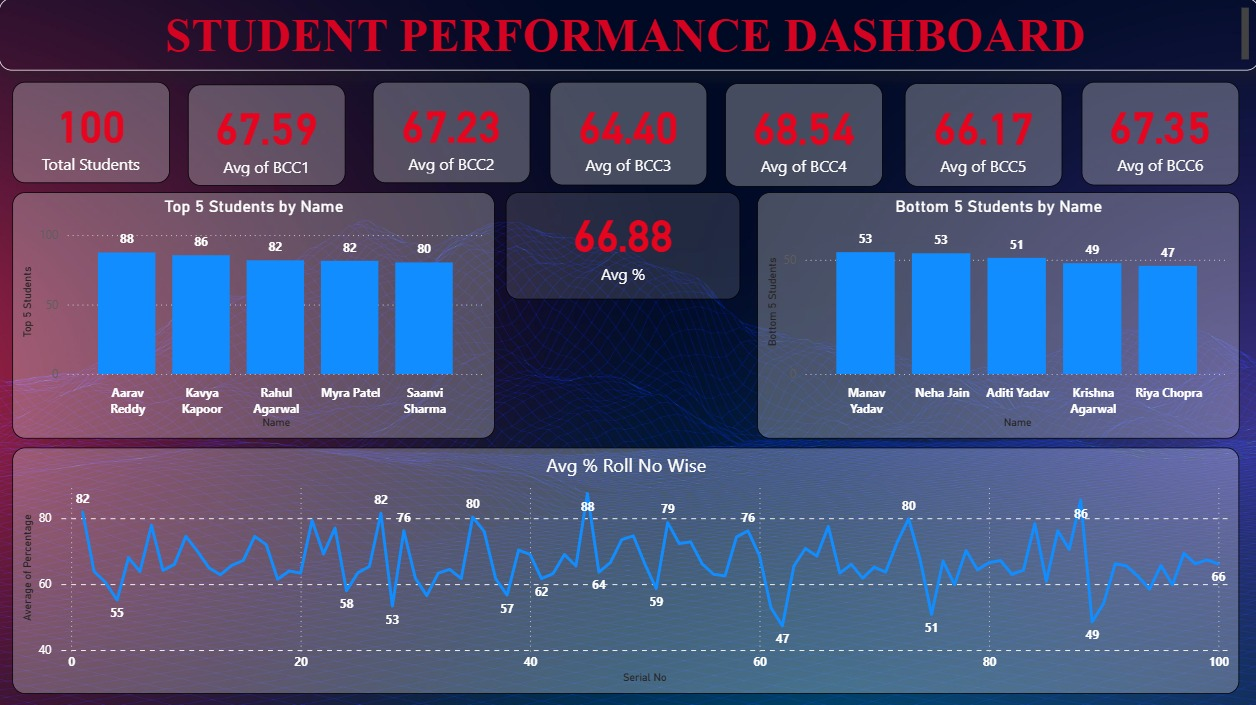

What the dashboard file says about the page in this screenshot:
{"tool":"powerbi","page":{"name":"Page 1","canvas":[1280,720],"ordinal":0},"visuals":[{"type":"textbox","box":[0,0,1280.2,74],"z":0},{"type":"card","fields":{"Values":["student_marks_dataset.Serial No"]},"box":[13.3,85,160,103.3],"z":1000},{"type":"card","fields":{"Values":["student_marks_dataset.BCC1"]},"box":[191.7,88.3,160,103.3],"z":2000},{"type":"card","fields":{"Values":["student_marks_dataset.BCC2"]},"box":[380,85,160,103.3],"z":3000},{"type":"card","fields":{"Values":["student_marks_dataset.BCC3"]},"box":[560,85,160,105],"z":4000},{"type":"card","fields":{"Values":["student_marks_dataset.BCC4"]},"box":[738.3,86.7,160,105],"z":5000},{"type":"card","fields":{"Values":["student_marks_dataset.BCC5"]},"box":[920,86.7,160,105],"z":6000},{"type":"card","fields":{"Values":["student_marks_dataset.BCC6"]},"box":[1100,85,160,105],"z":7000},{"type":"columnChart","fields":{"Category":["student_marks_dataset.Name"],"Y":["student_marks_dataset.Percentage"]},"box":[13.3,196.7,490,250],"z":8000},{"type":"columnChart","fields":{"Category":["student_marks_dataset.Name"],"Y":["student_marks_dataset.Percentage"]},"box":[770,196.7,490,250],"z":9000},{"type":"lineChart","title":"Avg % Roll No Wise","fields":{"Category":["student_marks_dataset.Serial No"],"Y":["student_marks_dataset.Percentage"]},"box":[13.3,456.7,1246.7,250],"z":10000},{"type":"card","fields":{"Values":["student_marks_dataset.Percentage"]},"box":[514.6,197.8,238,109.4],"z":10001}]}

Visuals, with their boxes in screenshot pixels (x1, y1, x2, y2), scaled from the page's 1280x720 canvas onto the 1256x705 screenshot:
textbox: [x1=0, y1=0, x2=1255, y2=72]
card - student_marks_dataset.Serial No: [x1=13, y1=83, x2=170, y2=184]
card - student_marks_dataset.BCC1: [x1=188, y1=86, x2=345, y2=188]
card - student_marks_dataset.BCC2: [x1=373, y1=83, x2=530, y2=184]
card - student_marks_dataset.BCC3: [x1=550, y1=83, x2=706, y2=186]
card - student_marks_dataset.BCC4: [x1=724, y1=85, x2=881, y2=188]
card - student_marks_dataset.BCC5: [x1=903, y1=85, x2=1060, y2=188]
card - student_marks_dataset.BCC6: [x1=1079, y1=83, x2=1236, y2=186]
columnChart - student_marks_dataset.Name x student_marks_dataset.Percentage: [x1=13, y1=193, x2=494, y2=437]
columnChart - student_marks_dataset.Name x student_marks_dataset.Percentage: [x1=756, y1=193, x2=1236, y2=437]
"Avg % Roll No Wise" lineChart: [x1=13, y1=447, x2=1236, y2=692]
card - student_marks_dataset.Percentage: [x1=505, y1=194, x2=738, y2=301]
